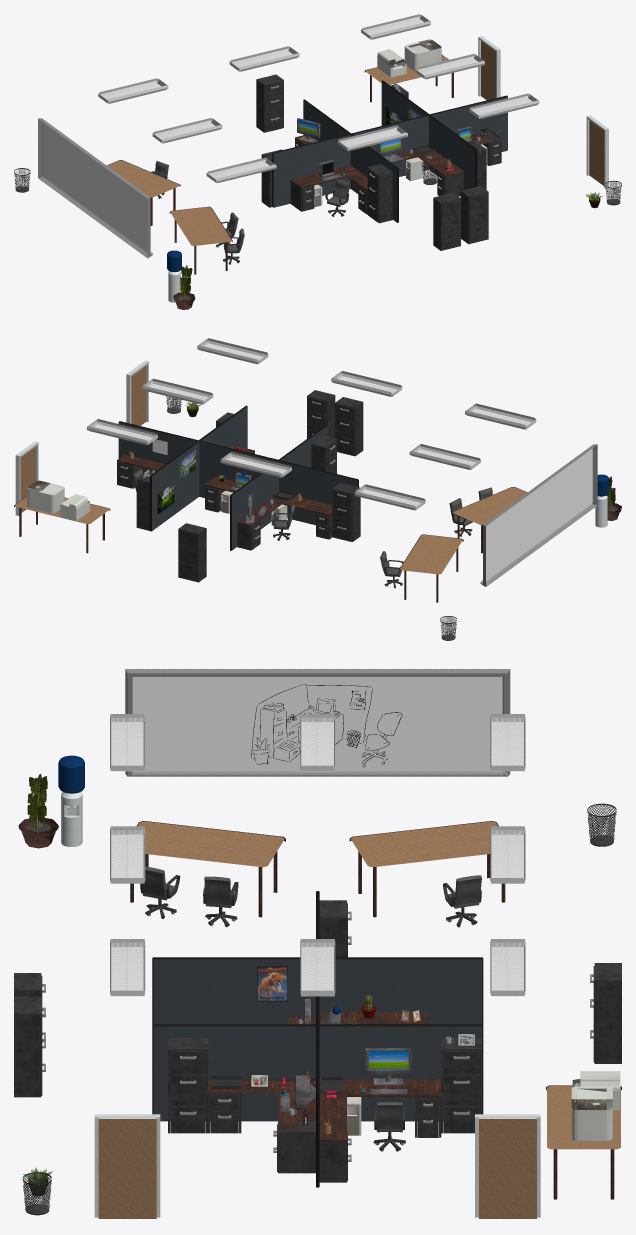
The model's file is dearLord.obj.
3 renders of one model, top to bottom at view 1: azimuth 30°, elevation 25°; view 2: azimuth 150°, elevation 25°; view 3: azimuth 270°, elevation 25°, orthographic. The views are drawn at different scales.
Parts seen in each view (by area): view 1: Walls, Light5 Light6 Light7 Light8 Light9 Light10 Light11 Light12, WhiteBoard, FileCabinet1 FileCabinet2 FileCabinet3 FileCabinet4 FileCabinet5, Table1 Table2 Table3, door1 door2, FileCabinetSlim1 FileCabinetSlim2 FileCabinetSlim3 FileCabinetSl, ChairObj1 ChairObj2 ChairObj3 ChairObj4 ChairObj5 ChairObj6, Desk2 Desk5 Desk6, BasketObj1 BasketObj2 BasketObj3, PrinterObj, SlimMonitor1 SlimMonitor2 SlimMonitor3 (+5 smaller); view 2: Walls, Light5 Light6 Light7 Light8 Light9 Light10 Light11 Light12, FileCabinet1 FileCabinet2 FileCabinet3 FileCabinet4 FileCabinet5, WhiteBoard, Table1 Table2 Table3, door1 door2, ChairObj1 ChairObj2 ChairObj3 ChairObj4 ChairObj5 ChairObj6, Desk1 Desk3 Desk4, FileCabinetFat1 FileCabinetFat2 FileCabinetFat3 FileCabinetFat4 , PrinterObj, FileCabinetSlim1 FileCabinetSlim2 FileCabinetSlim3 FileCabinetSl, WaterCoolerObj (+3 smaller); view 3: WhiteBoard, Walls, Light5 Light6 Light7 Light8 Light9 Light10 Light11 Light12, FileCabinet1 FileCabinet2 FileCabinet3 FileCabinet4 FileCabinet5, door1 door2, Table1 Table2 Table3, ChairObj1 ChairObj2 ChairObj3 ChairObj4 ChairObj5 ChairObj6, FileCabinetSlim1 FileCabinetSlim2 FileCabinetSlim3 FileCabinetSl, Desk1 Desk3 Desk4, Desk2 Desk5 Desk6, FileCabinetFat1 FileCabinetFat2 FileCabinetFat3 FileCabinetFat4 , PrinterObj (+9 smaller).
Boxes of the visible parts, bbox=[...] form: Walls: bbox=[272, 80, 507, 222]; Light5 Light6 Light7 Light8 Light9 Light10 Light11 Light12: bbox=[98, 14, 539, 182]; WhiteBoard: bbox=[38, 118, 152, 258]; FileCabinet1 FileCabinet2 FileCabinet3 FileCabinet4 FileCabinet5: bbox=[256, 74, 488, 250]; Table1 Table2 Table3: bbox=[107, 55, 453, 274]; door1 door2: bbox=[478, 36, 608, 188]; FileCabinetSlim1 FileCabinetSlim2 FileCabinetSlim3 FileCabinetSl: bbox=[290, 132, 501, 211]; ChairObj1 ChairObj2 ChairObj3 ChairObj4 ChairObj5 ChairObj6: bbox=[151, 161, 349, 264]; Desk2 Desk5 Desk6: bbox=[290, 131, 501, 191]; BasketObj1 BasketObj2 BasketObj3: bbox=[14, 162, 621, 205]; PrinterObj: bbox=[404, 39, 441, 71]; SlimMonitor1 SlimMonitor2 SlimMonitor3: bbox=[297, 118, 402, 159]; Walls: bbox=[118, 405, 358, 550]; Light5 Light6 Light7 Light8 Light9 Light10 Light11 Light12: bbox=[87, 338, 536, 510]; FileCabinet1 FileCabinet2 FileCabinet3 FileCabinet4 FileCabinet5: bbox=[136, 390, 363, 582]; WhiteBoard: bbox=[480, 444, 597, 586]; Table1 Table2 Table3: bbox=[14, 487, 527, 602]; door1 door2: bbox=[15, 360, 148, 515]; ChairObj1 ChairObj2 ChairObj3 ChairObj4 ChairObj5 ChairObj6: bbox=[132, 469, 492, 588]; Desk1 Desk3 Desk4: bbox=[117, 446, 332, 526]; FileCabinetFat1 FileCabinetFat2 FileCabinetFat3 FileCabinetFat4 : bbox=[117, 461, 260, 550]; PrinterObj: bbox=[27, 480, 64, 513]; FileCabinetSlim1 FileCabinetSlim2 FileCabinetSlim3 FileCabinetSl: bbox=[205, 451, 332, 539]; WaterCoolerObj: bbox=[595, 474, 608, 527]; WhiteBoard: bbox=[125, 669, 510, 776]; Walls: bbox=[152, 891, 483, 1187]; Light5 Light6 Light7 Light8 Light9 Light10 Light11 Light12: bbox=[110, 714, 525, 996]; FileCabinet1 FileCabinet2 FileCabinet3 FileCabinet4 FileCabinet5: bbox=[14, 900, 621, 1133]; door1 door2: bbox=[94, 1114, 540, 1218]; Table1 Table2 Table3: bbox=[130, 821, 621, 1199]; ChairObj1 ChairObj2 ChairObj3 ChairObj4 ChairObj5 ChairObj6: bbox=[140, 866, 481, 1151]; FileCabinetSlim1 FileCabinetSlim2 FileCabinetSlim3 FileCabinetSl: bbox=[273, 1097, 441, 1173]; Desk1 Desk3 Desk4: bbox=[288, 1016, 441, 1141]; Desk2 Desk5 Desk6: bbox=[208, 1012, 427, 1132]; FileCabinetFat1 FileCabinetFat2 FileCabinetFat3 FileCabinetFat4 : bbox=[208, 1021, 351, 1182]; PrinterObj: bbox=[571, 1086, 612, 1140].
Bounding box in the file's own units: 2413 × 511 × 1599.
